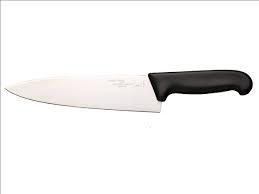Knife: (4, 68, 253, 113)
